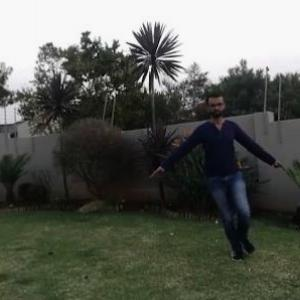land: (150, 94, 275, 248)
